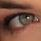eye: (19, 15, 34, 23)
